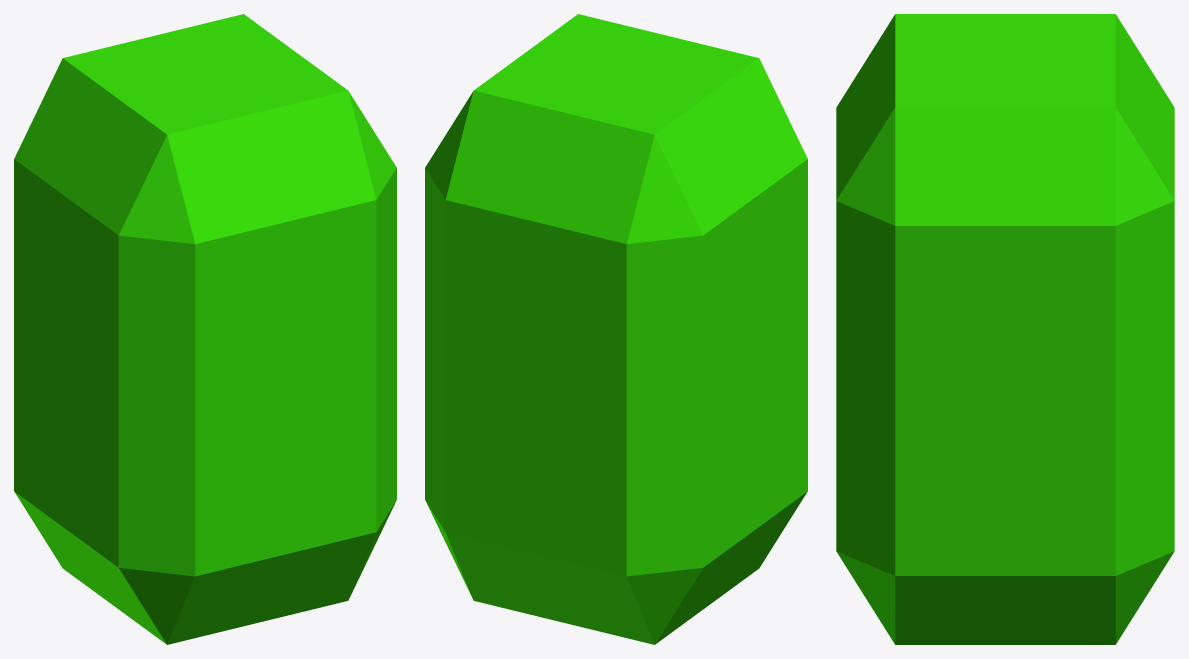
Rendered from Crystal2.fbx.
3 views of the same model, side by side, from view 1: azimuth 30°, elevation 25°; view 2: azimuth 150°, elevation 25°; view 3: azimuth 270°, elevation 25° (orthographic). The views are drawn at different scales.
Parts seen in each view (by area): view 1: Cube; view 2: Cube; view 3: Cube.
Part boxes in pixels (x1,y1,x2,y2): Cube: [14, 14, 396, 644]; Cube: [425, 14, 807, 644]; Cube: [836, 14, 1174, 644].
Size of the model in its own units: 112 by 197 by 112.
